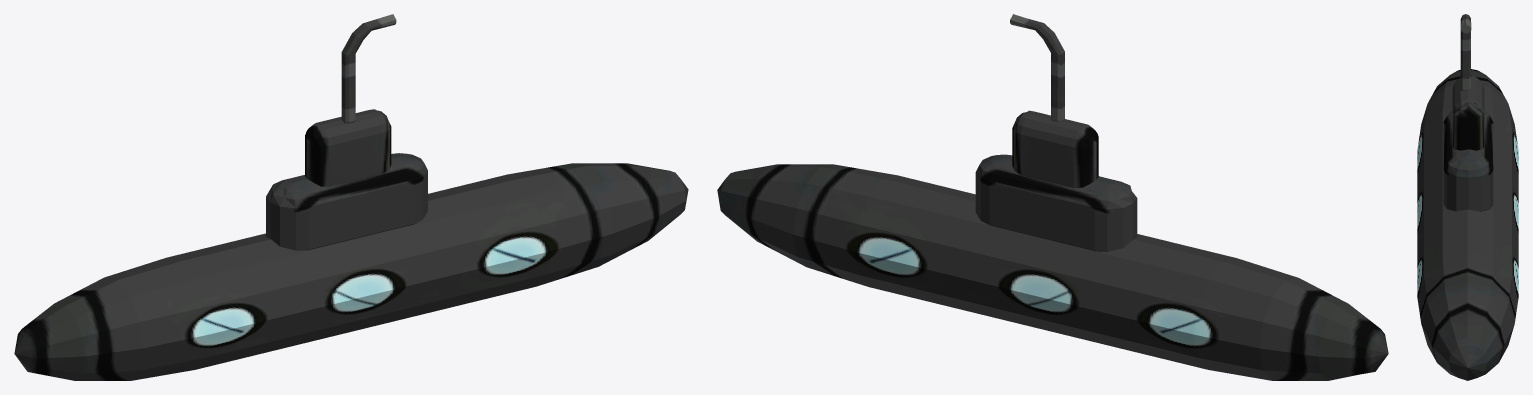
3 views of the same model, side by side, from view 1: azimuth 30°, elevation 25°; view 2: azimuth 150°, elevation 25°; view 3: azimuth 270°, elevation 25° (orthographic). The views are drawn at different scales.
Visible parts, largest first — view 1: Sub; view 2: Sub; view 3: Sub.
Part boxes in pixels (x1,y1,x2,y2): Sub: (14, 14, 688, 380); Sub: (717, 14, 1388, 380); Sub: (1417, 14, 1518, 380).
Bounding box in the file's own units: 1168 × 499 × 174.
1 material, 1 textured.
